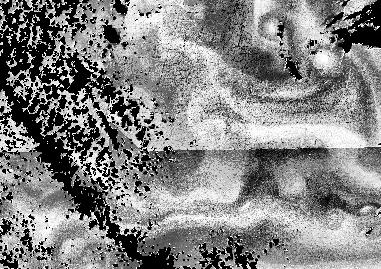CE: (307, 42, 350, 80), (254, 9, 298, 38)
